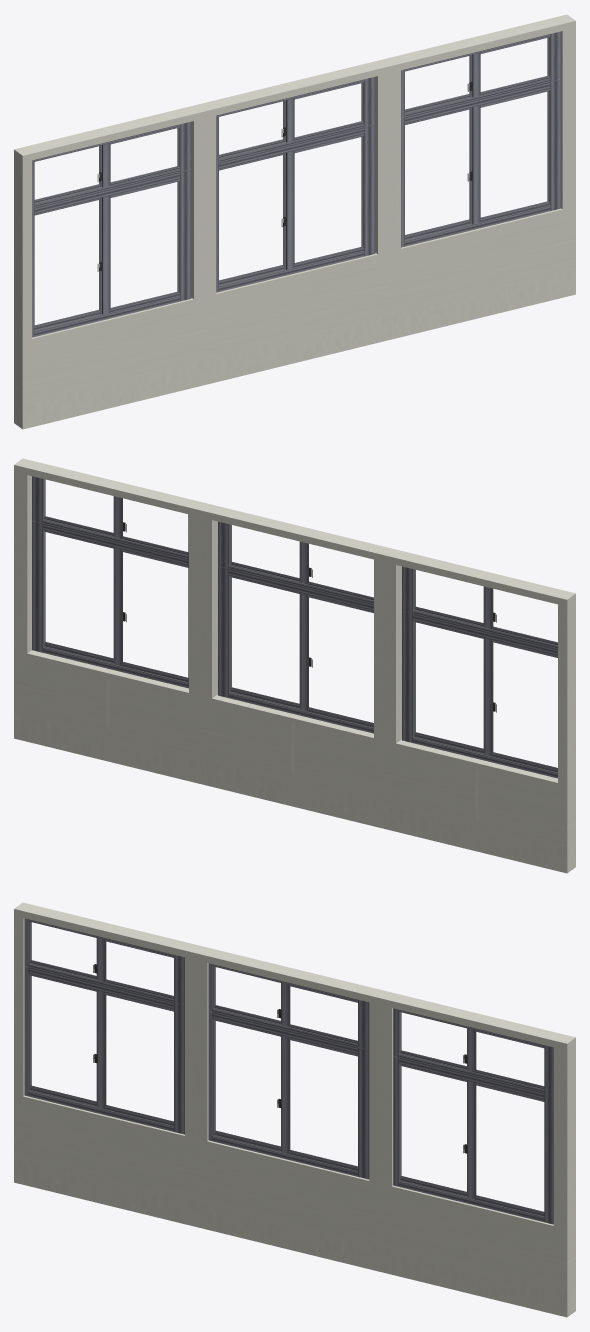
The model's file is Asset_16_ClassroomWall_Window.fbx.
The picture shows the model from 3 angles, top to bottom: view 1: azimuth 30°, elevation 25°; view 2: azimuth 150°, elevation 25°; view 3: azimuth 330°, elevation 25°; orthographic projection.
Visible parts, largest first — view 1: group11_pCube9, SK_08_Window19, SK_08_Window17, SK_08_Window18; view 2: group11_pCube9, SK_08_Window19, SK_08_Window17, SK_08_Window18; view 3: group11_pCube9, SK_08_Window18, SK_08_Window17, SK_08_Window19.
Part boxes in pixels (box(x1,y1,x2,y2)): group11_pCube9: box(14, 14, 575, 429); SK_08_Window19: box(401, 31, 561, 247); SK_08_Window17: box(32, 121, 191, 337); SK_08_Window18: box(216, 77, 375, 292); group11_pCube9: box(14, 458, 575, 873); SK_08_Window19: box(32, 476, 188, 688); SK_08_Window17: box(402, 566, 557, 778); SK_08_Window18: box(218, 521, 373, 733); group11_pCube9: box(14, 902, 575, 1317); SK_08_Window18: box(208, 963, 369, 1179); SK_08_Window17: box(24, 918, 184, 1134); SK_08_Window19: box(393, 1008, 553, 1224).
Size of the model in its own units: 86.77 by 41.02 by 2.39.
